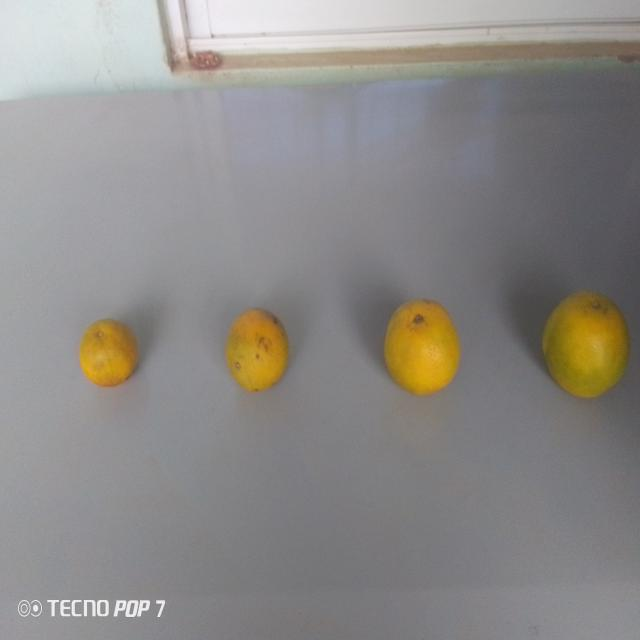Ripe orange: (532, 284, 630, 406), (380, 293, 468, 405), (220, 306, 296, 400), (75, 311, 143, 391)
